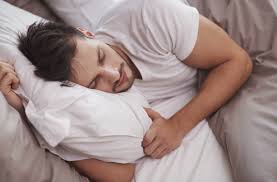sleeping: (2, 3, 270, 182)
